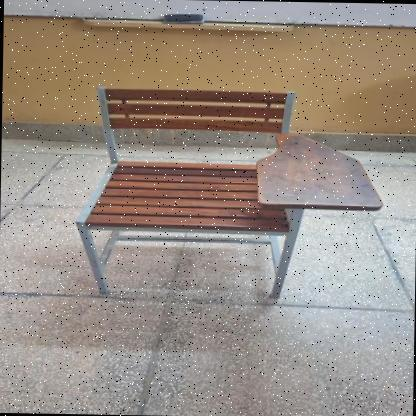chair: (63, 78, 391, 315)
